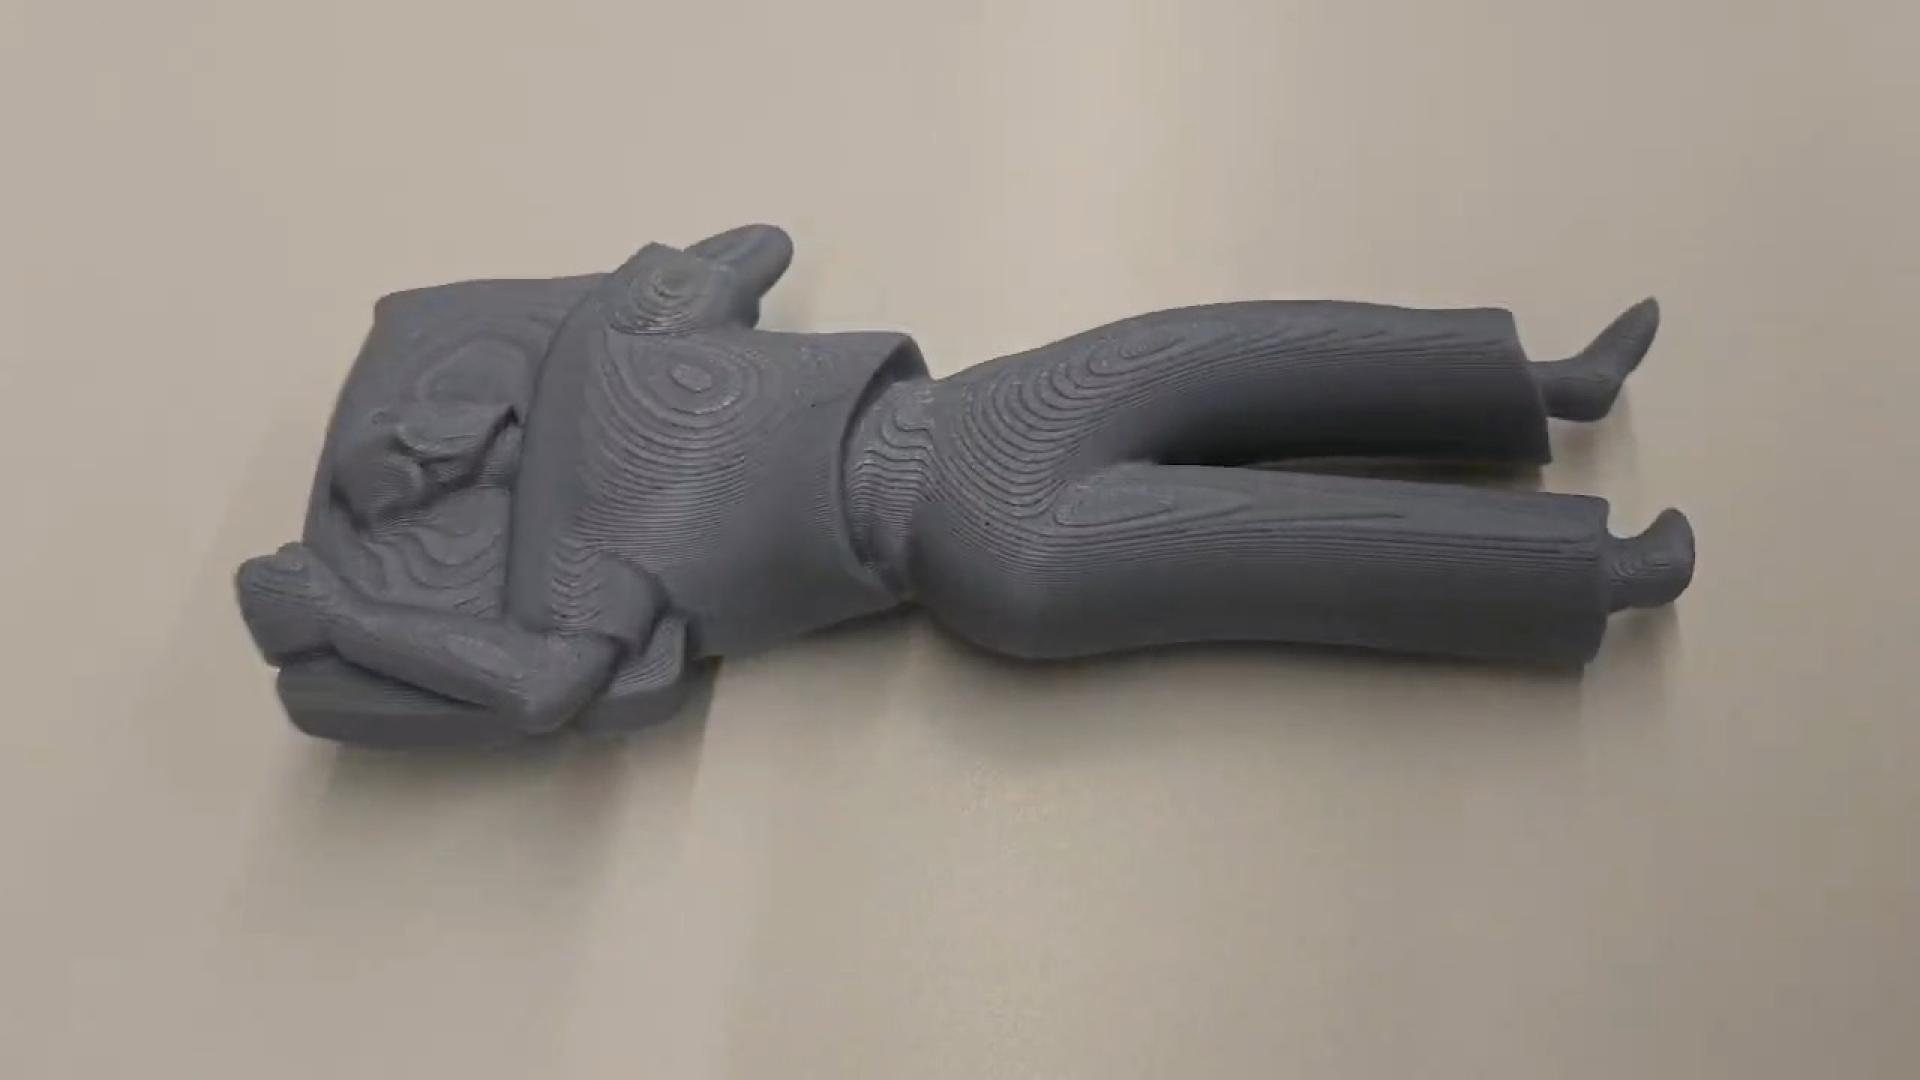Bad-style: (237, 218, 1701, 766)
